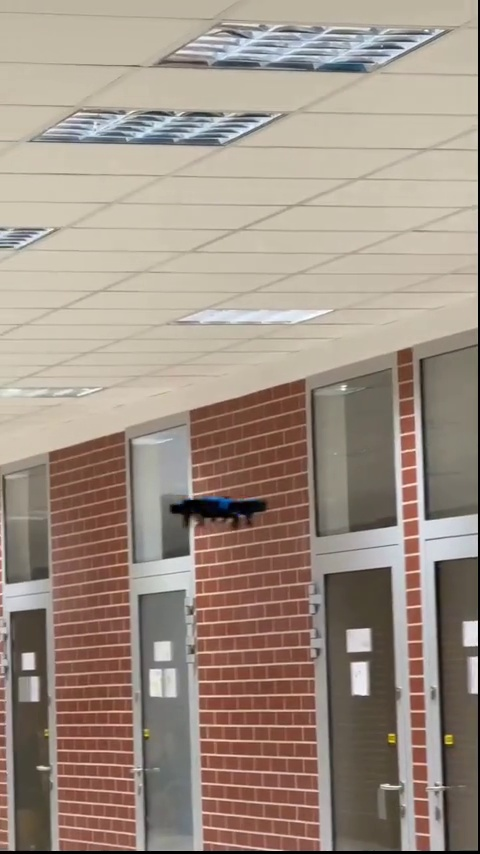drone: (171, 492, 268, 524)
